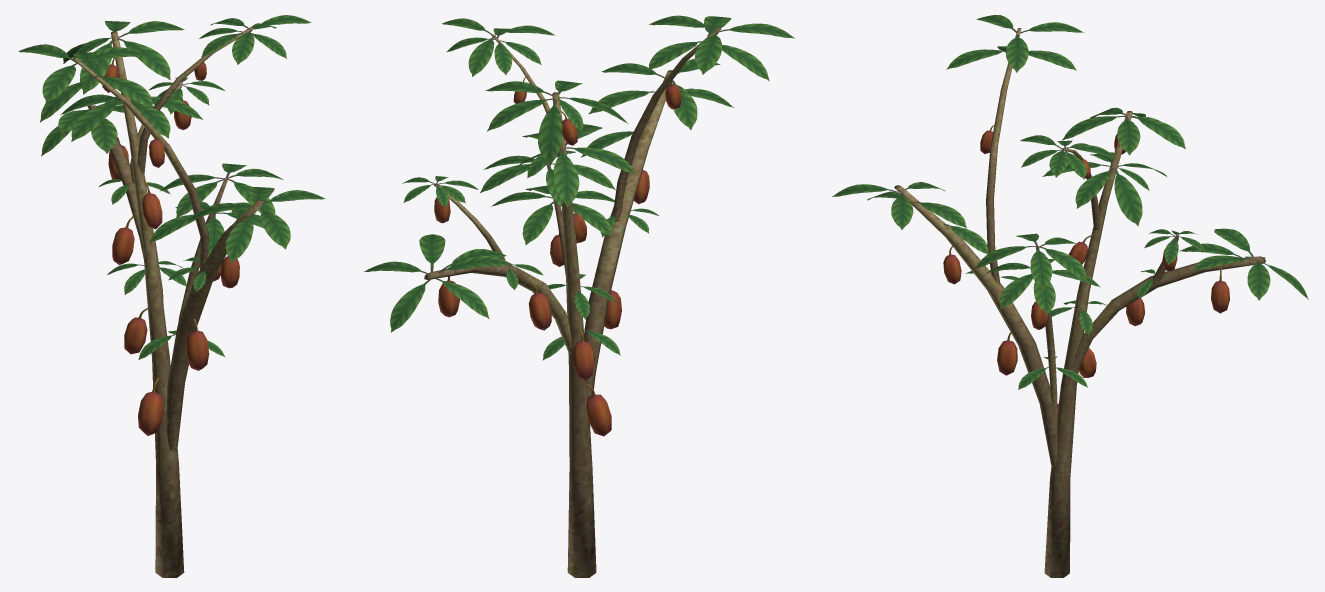
File: Model_PeMaduroCacauTexture_v1.fbx
3 renders of one model, left to right at view 1: azimuth 30°, elevation 25°; view 2: azimuth 150°, elevation 25°; view 3: azimuth 270°, elevation 25°, orthographic. The views are drawn at different scales.
Visible parts, largest first — view 1: NurbsPath.090; view 2: NurbsPath.090; view 3: NurbsPath.090.
Boxes of the visible parts, x1=… form: NurbsPath.090: x1=18, y1=15, x2=325, y2=577; NurbsPath.090: x1=363, y1=15, x2=794, y2=577; NurbsPath.090: x1=832, y1=15, x2=1308, y2=577.
Bounding box in the file's own units: 437 × 735 × 650.
1 material, 1 textured.
